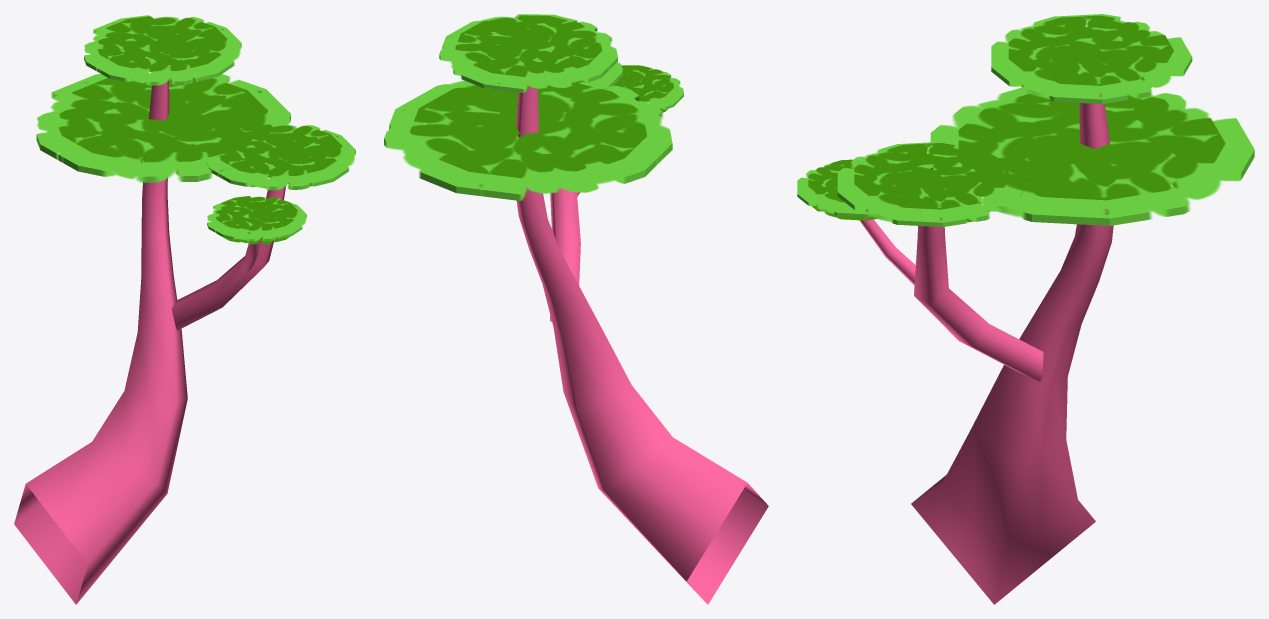
File: Tree2.glb
3 renders of one model, left to right at view 1: azimuth 30°, elevation 25°; view 2: azimuth 150°, elevation 25°; view 3: azimuth 270°, elevation 25°, orthographic. The views are drawn at different scales.
Visible parts, largest first — view 1: Trunk-col.001, Circle.002-.004, Circle.002-.003, Circle.003-.004, Circle.001-.003, Circle.003-.003, Circle.001-.005, Circle-.004, Circle.002-colonly.001, Circle-.003, Circle.003-colonly.001, Circle.001-colonly.001 (+1 smaller); view 2: Trunk-col.001, Circle.002-.004, Circle.002-.003, Circle.003-.004, Circle.003-.003, Circle.002-colonly.001, Circle-.004, Circle.003-colonly.001, Circle-.003, Circle.001-.005; view 3: Trunk-col.001, Circle.002-.004, Circle.002-.003, Circle.003-.004, Circle.001-.003, Circle.003-.003, Circle.001-.005, Circle.002-colonly.001, Circle.003-colonly.001, Circle.001-colonly.001, Circle-.003, Circle-.004.
Part boxes in pixels (bbox=[...]): Trunk-col.001: bbox=[14, 79, 285, 604]; Circle.002-.004: bbox=[58, 78, 267, 162]; Circle.002-.003: bbox=[36, 74, 290, 176]; Circle.003-.004: bbox=[97, 16, 227, 71]; Circle.001-.003: bbox=[219, 124, 342, 176]; Circle.003-.003: bbox=[84, 15, 241, 81]; Circle.001-.005: bbox=[206, 123, 355, 186]; Circle-.004: bbox=[216, 196, 297, 230]; Circle.002-colonly.001: bbox=[36, 76, 290, 182]; Circle-.003: bbox=[207, 198, 306, 239]; Circle.003-colonly.001: bbox=[84, 17, 241, 85]; Circle.001-colonly.001: bbox=[206, 123, 355, 190]; Trunk-col.001: bbox=[516, 86, 768, 604]; Circle.002-.004: bbox=[410, 82, 646, 178]; Circle.002-.003: bbox=[384, 80, 672, 194]; Circle.003-.004: bbox=[455, 15, 602, 76]; Circle.003-.003: bbox=[439, 14, 617, 88]; Circle.002-colonly.001: bbox=[384, 80, 672, 200]; Circle-.004: bbox=[613, 65, 673, 101]; Circle.003-colonly.001: bbox=[439, 14, 617, 93]; Circle-.003: bbox=[622, 68, 683, 106]; Circle.001-.005: bbox=[453, 62, 622, 96]; Trunk-col.001: bbox=[859, 94, 1113, 604]; Circle.002-.004: bbox=[958, 94, 1225, 200]; Circle.002-.003: bbox=[930, 87, 1254, 218]; Circle.003-.004: bbox=[1008, 15, 1173, 85]; Circle.001-.003: bbox=[854, 143, 1010, 209]; Circle.003-.003: bbox=[991, 14, 1191, 99]; Circle.001-.005: bbox=[837, 141, 1022, 222]; Circle.002-colonly.001: bbox=[930, 93, 1254, 225]; Circle.003-colonly.001: bbox=[991, 15, 1192, 103]; Circle.001-colonly.001: bbox=[837, 143, 1023, 226]; Circle-.003: bbox=[797, 163, 869, 214]; Circle-.004: bbox=[808, 159, 853, 202].
Size of the model in its own units: 10.47 by 17.49 by 11.52.
Materials: 3 (2 with a texture image).
